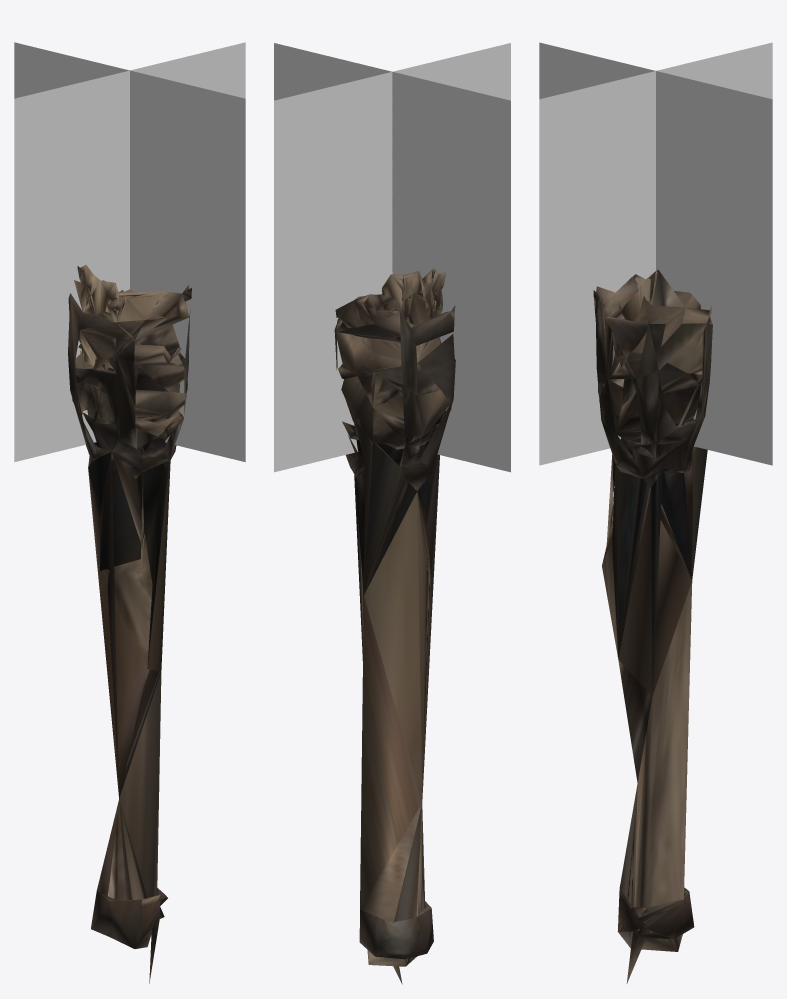
Rendered from torcia_achea_lod.gltf.
3 views of the same model, side by side, from view 1: azimuth 30°, elevation 25°; view 2: azimuth 150°, elevation 25°; view 3: azimuth 270°, elevation 25° (orthographic). The views are drawn at different scales.
Parts seen in each view (by area): view 1: flame, Mesh_0; view 2: flame, Mesh_0; view 3: flame, Mesh_0.
Boxes of the visible parts, left/top/right/bottom form: flame: left=14, top=42, right=245, bottom=462; Mesh_0: left=68, top=265, right=191, bottom=983; flame: left=274, top=43, right=510, bottom=472; Mesh_0: left=334, top=268, right=455, bottom=984; flame: left=539, top=42, right=772, bottom=465; Mesh_0: left=593, top=269, right=712, bottom=983.
Size of the model in its own units: 0.2 by 0.7468 by 0.1732.
Materials: 2 (1 with a texture image).
